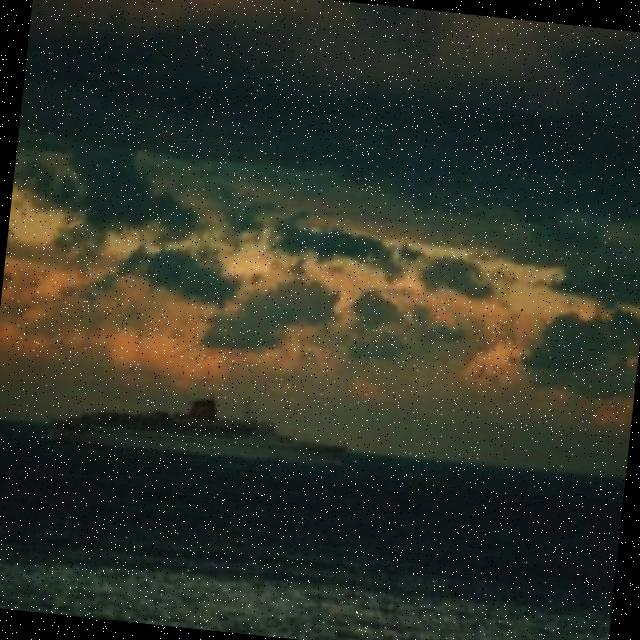St: (1, 1, 640, 425)
